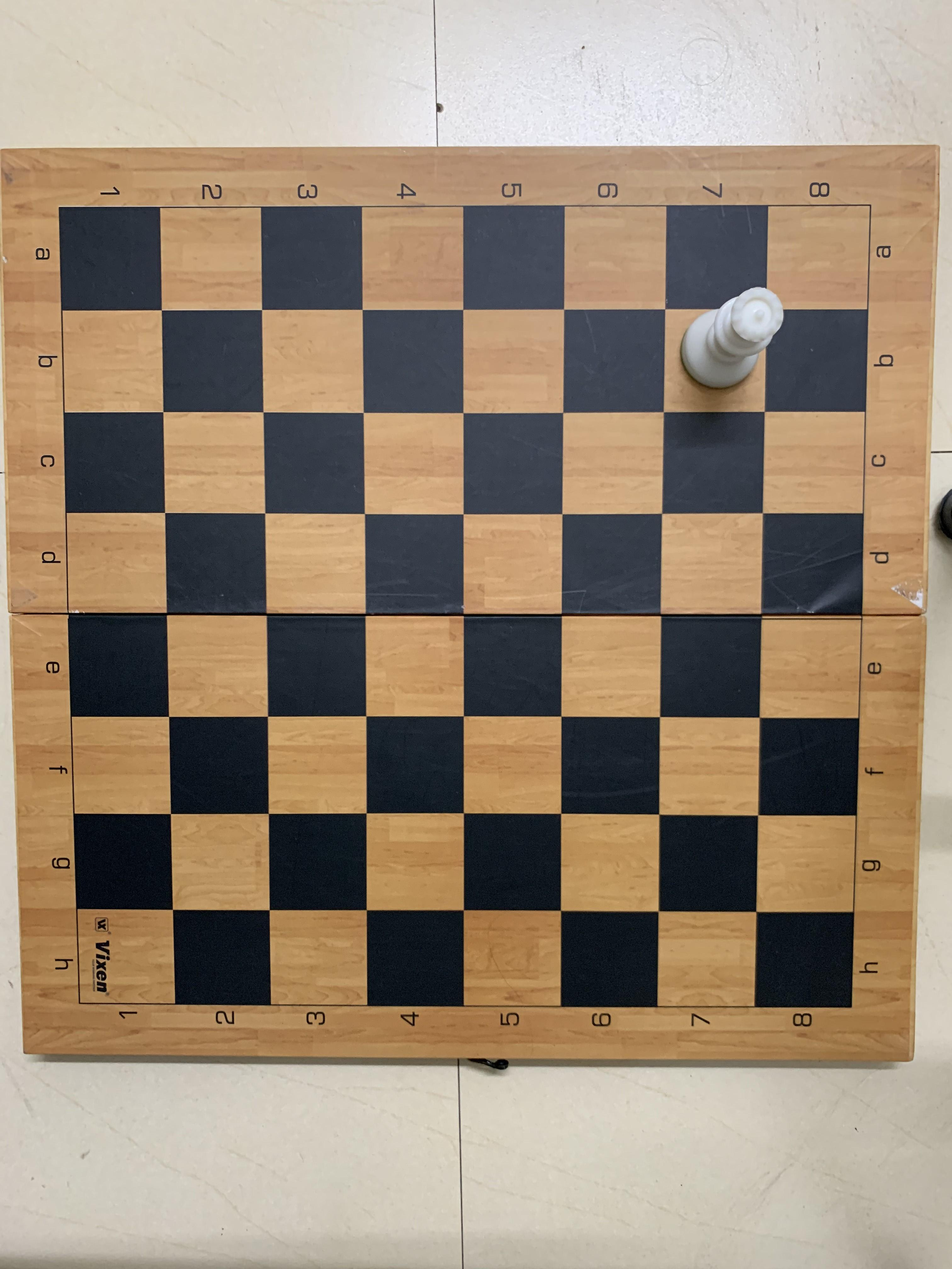white_queen: (669, 277, 791, 408)
